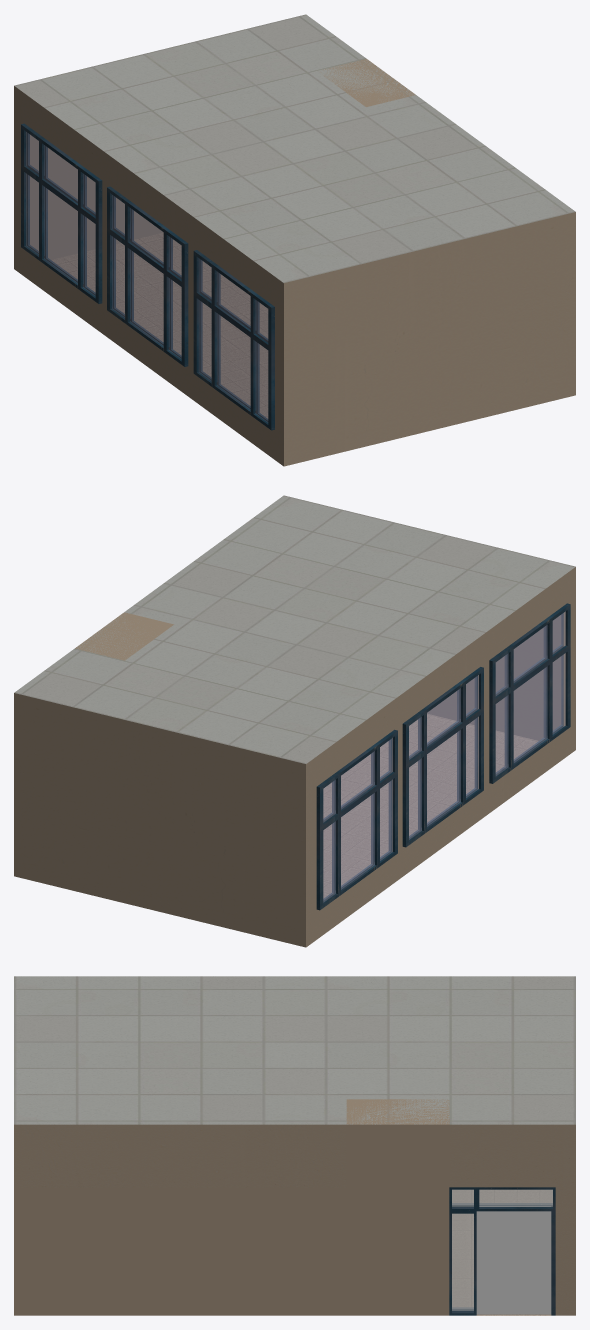
The model's file is aula.fbx.
The picture shows the model from 3 angles, top to bottom: view 1: azimuth 30°, elevation 25°; view 2: azimuth 150°, elevation 25°; view 3: azimuth 270°, elevation 25°; orthographic projection. The views are drawn at different scales.
Parts seen in each view (by area): view 1: L203, L203_Techo, L203_Ventanas, L203_Piso; view 2: L203, L203_Techo, L203_Ventanas, L203_Piso; view 3: L203, L203_Techo, Cube, L203_Piso.
Boxes of the visible parts, x1=… form: L203: x1=14, y1=59, x2=575, y2=466; L203_Techo: x1=14, y1=14, x2=575, y2=282; L203_Ventanas: x1=21, y1=123, x2=274, y2=430; L203_Piso: x1=51, y1=233, x2=268, y2=418; L203: x1=14, y1=567, x2=575, y2=947; L203_Techo: x1=14, y1=495, x2=575, y2=763; L203_Ventanas: x1=316, y1=603, x2=570, y2=910; L203_Piso: x1=323, y1=714, x2=538, y2=898; L203: x1=14, y1=1099, x2=575, y2=1315; L203_Techo: x1=14, y1=976, x2=575, y2=1124; Cube: x1=449, y1=1187, x2=555, y2=1315; L203_Piso: x1=452, y1=1190, x2=552, y2=1315.
Bounding box in the file's own units: 506 × 300 × 800.
